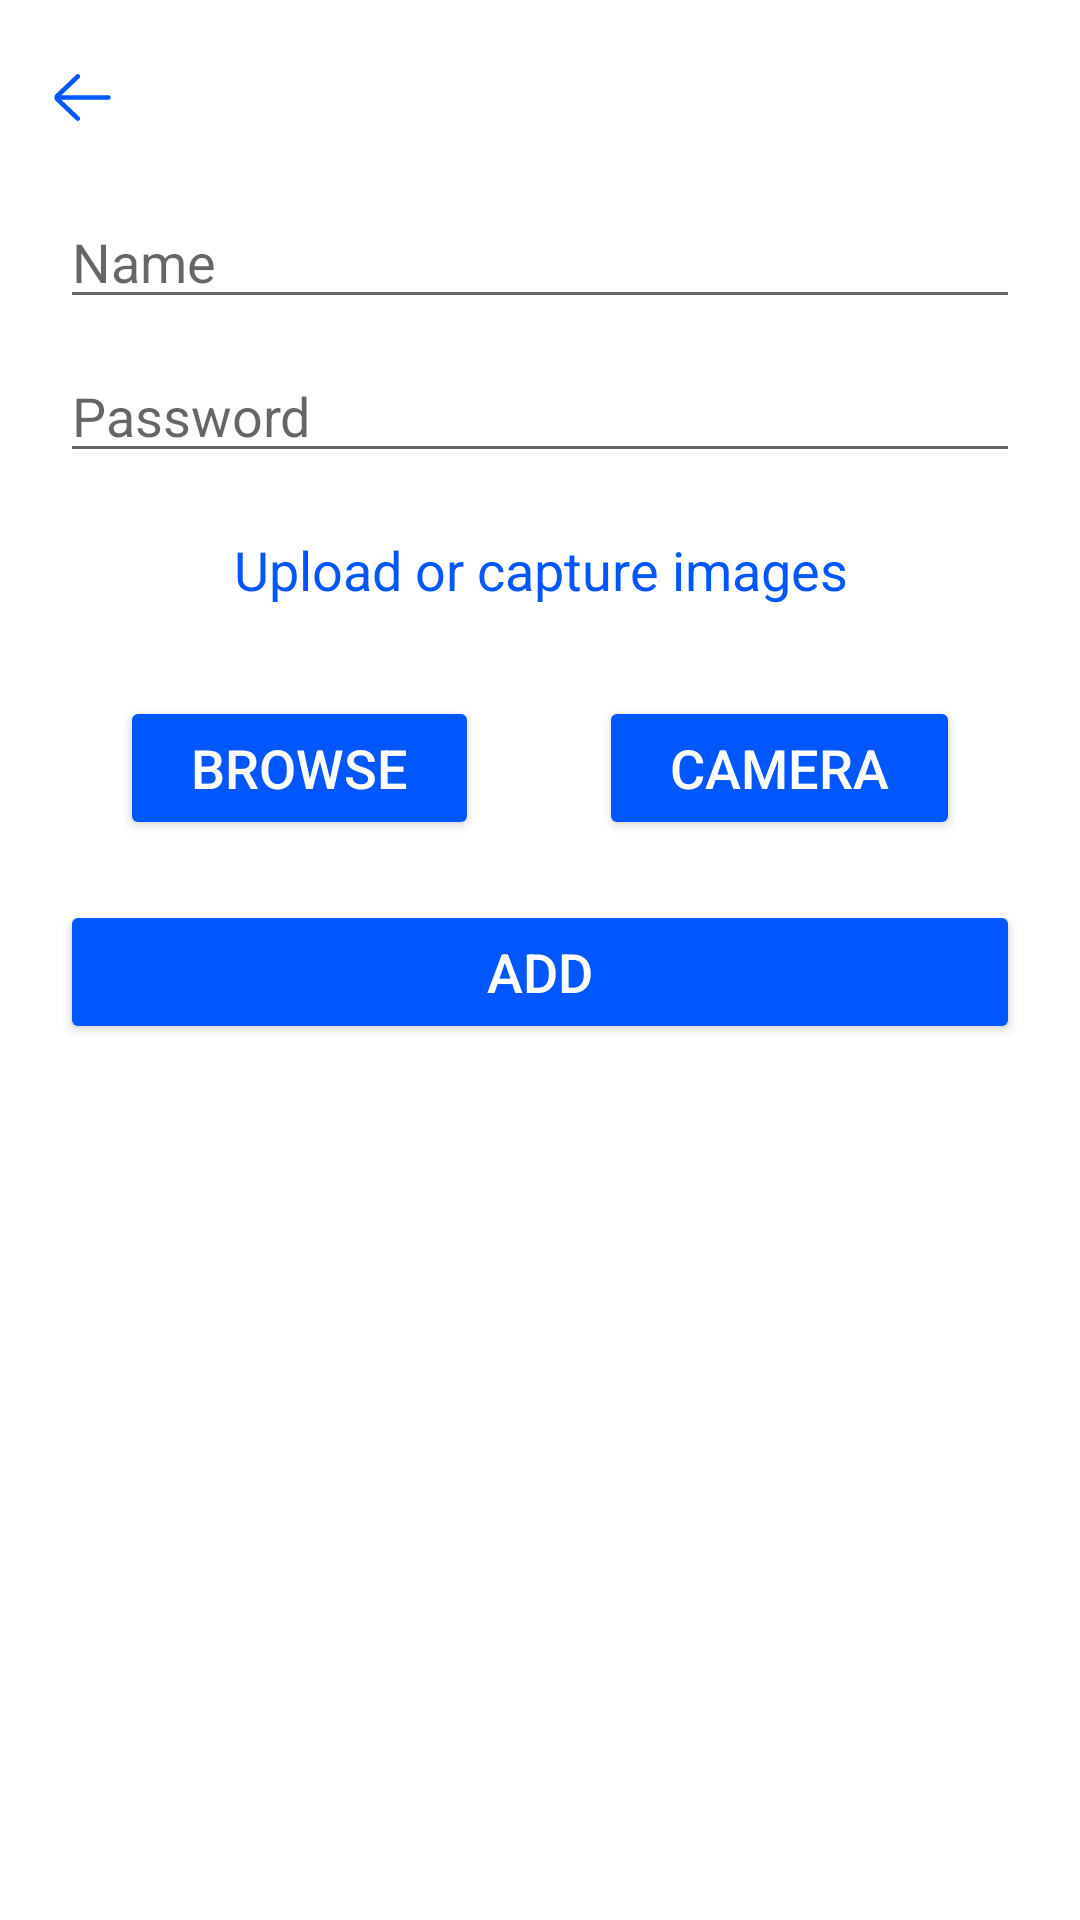

Screen size 1080 x 1920. Icon name, then its center in pixels as [x,y]:
back: [82,97]
